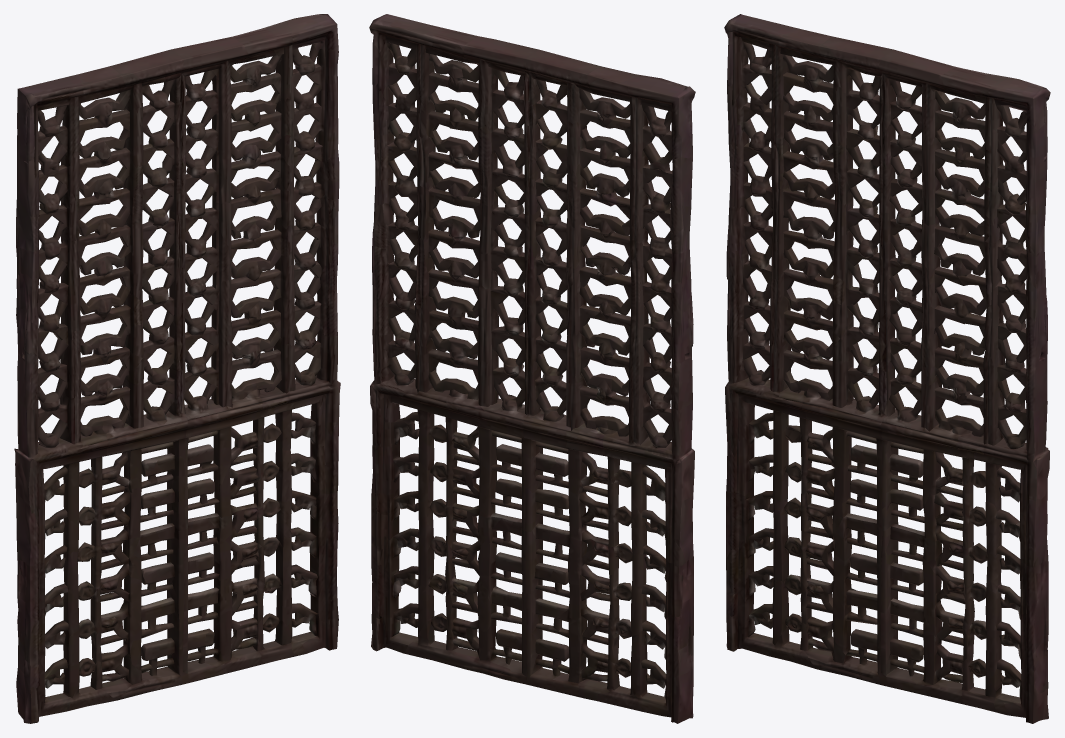
File: SM_ChuangHu_10_25eb68.glb
3 renders of one model, left to right at view 1: azimuth 30°, elevation 25°; view 2: azimuth 150°, elevation 25°; view 3: azimuth 330°, elevation 25°, orthographic.
Visible parts, largest first — view 1: SM_ChuangHu_10; view 2: SM_ChuangHu_10; view 3: SM_ChuangHu_10.
Boxes of the visible parts, x1,y1,x2,y2 form: SM_ChuangHu_10: [14, 14, 340, 723]; SM_ChuangHu_10: [369, 14, 695, 723]; SM_ChuangHu_10: [724, 14, 1050, 723].
Size of the model in its own units: 0.5238 by 1 by 0.0517.
1 material, 1 textured.
